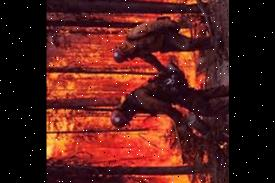fire: (47, 58, 106, 158), (116, 132, 214, 183)
